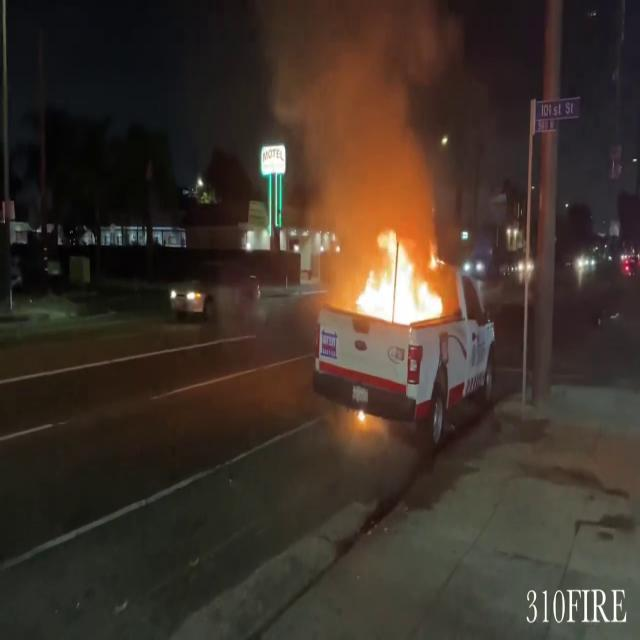Fire: (349, 226, 452, 328)
Smoke: (247, 0, 457, 224)
